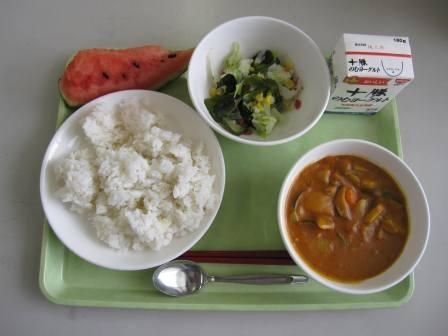Curry: (285, 144, 425, 283)
Rice: (46, 103, 208, 253)
Salad: (196, 36, 318, 140)
watermelon: (52, 43, 196, 106)
